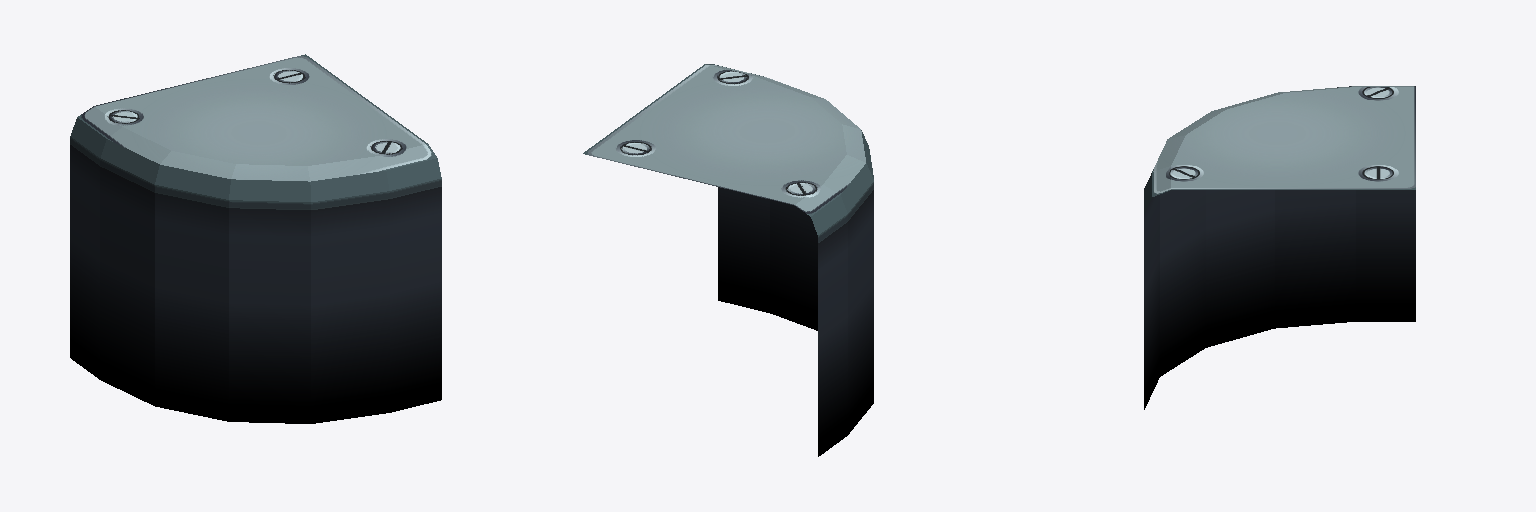
3 renders of one model, left to right at view 1: azimuth 30°, elevation 25°; view 2: azimuth 150°, elevation 25°; view 3: azimuth 270°, elevation 25°, orthographic.
Visible parts, largest first — view 1: Floor_Block_Cube; view 2: Floor_Block_Cube; view 3: Floor_Block_Cube.
Part boxes in pixels (x1,y1,x2,y2): Floor_Block_Cube: (70, 54, 441, 423); Floor_Block_Cube: (583, 64, 873, 456); Floor_Block_Cube: (1144, 86, 1415, 409).
Size of the model in its own units: 2 by 2 by 2.
1 materials, 1 textured.